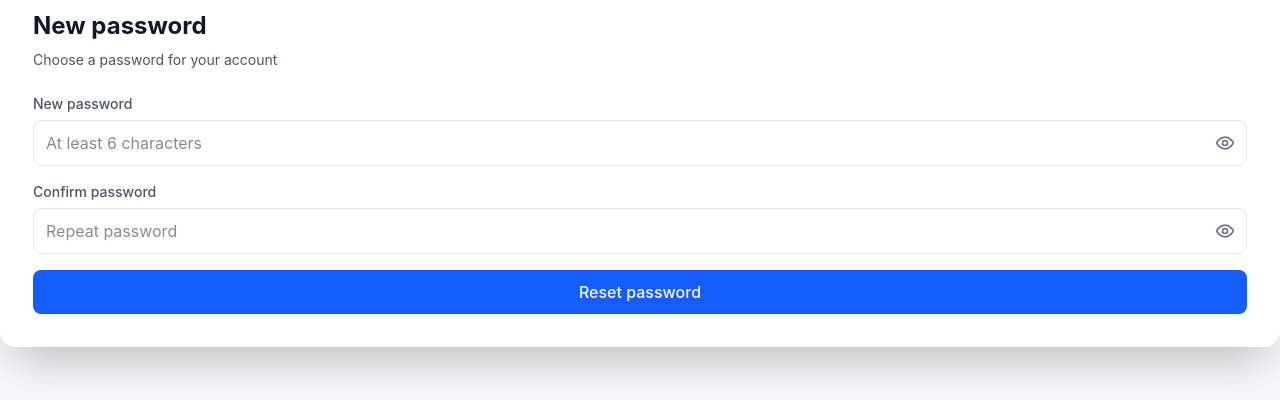
Test: ResetPasswordView › restablece contraseña con token válido
Type "newpass123" into the password field labelled "New password" at [640, 143], box x1=33 y1=120 x2=1247 y2=166
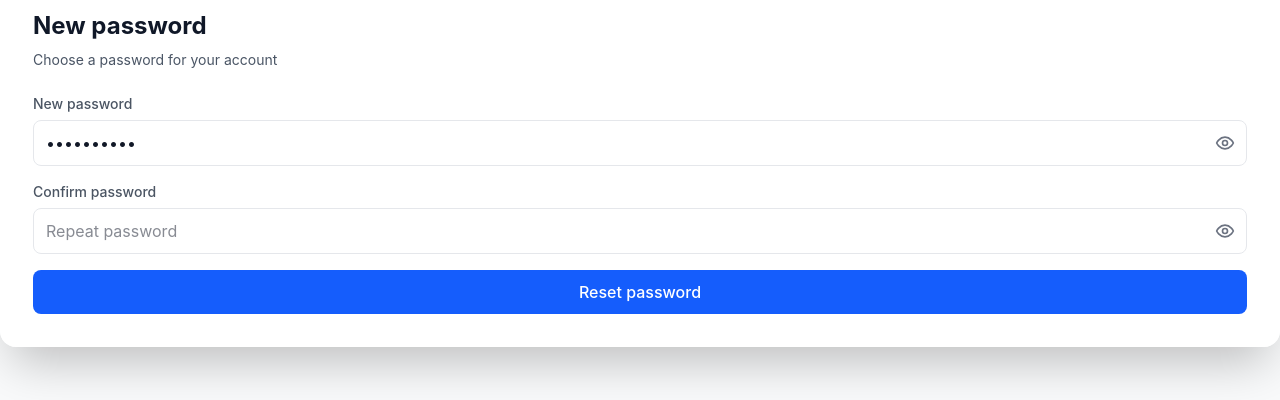
Type "newpass123" into the password field with id "confirmPassword" at [640, 231], box x1=33 y1=208 x2=1247 y2=254
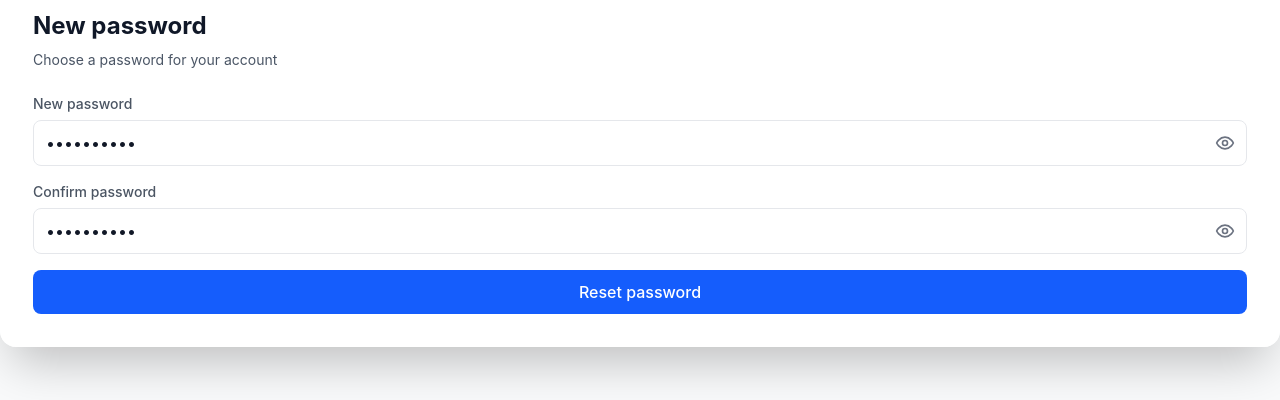
Submit the form, box x1=33 y1=94 x2=1247 y2=314
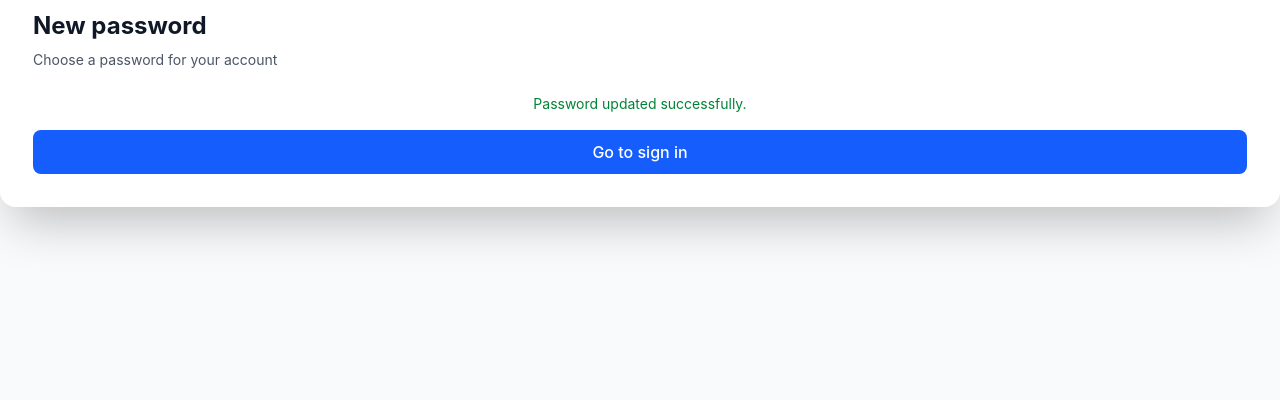
Check: the text "Password updated successfully." is shown, box x1=533 y1=95 x2=747 y2=112
